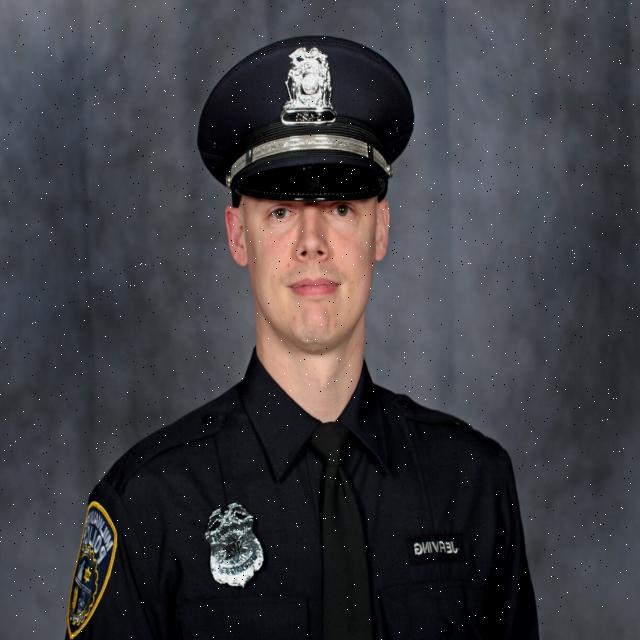police: (46, 17, 529, 640)
